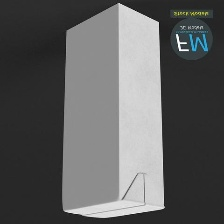carton: (55, 0, 174, 221)
